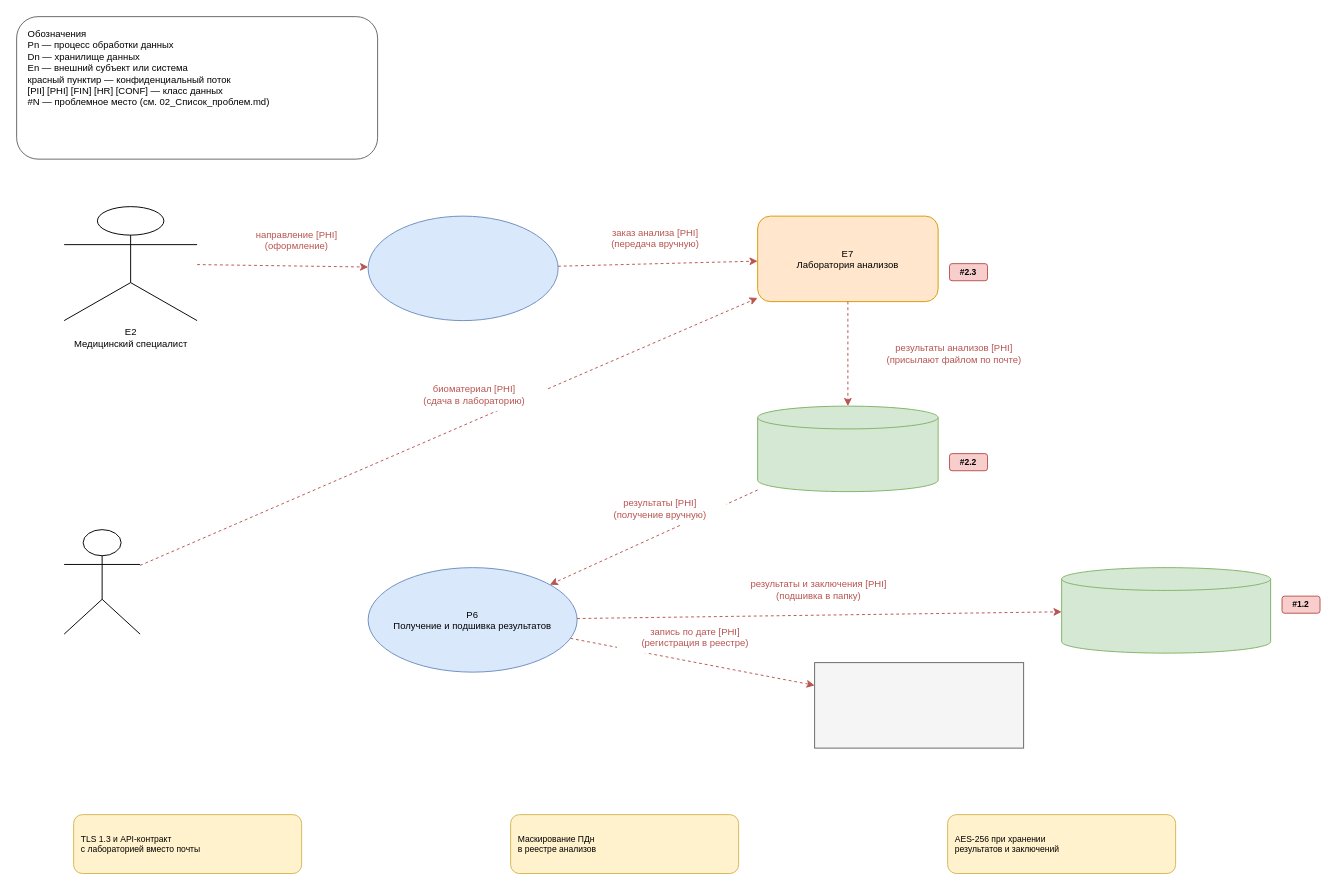
This 1337x890 diagram has some shape labels left out. The box of each missing label's shape, as (x1, y1, x2, y2) in pixels:
D12 Почта / файлы (ручной канал обмена): (757, 405, 938, 492)
D2 Папка пациента (сканы, заключения): (1061, 567, 1271, 653)
D7 RegistryByDate.xlsx (реестр анализов): (814, 662, 1024, 748)
E1 Пациент: (63, 529, 140, 634)
P5 Направление на анализ: (367, 215, 558, 321)
